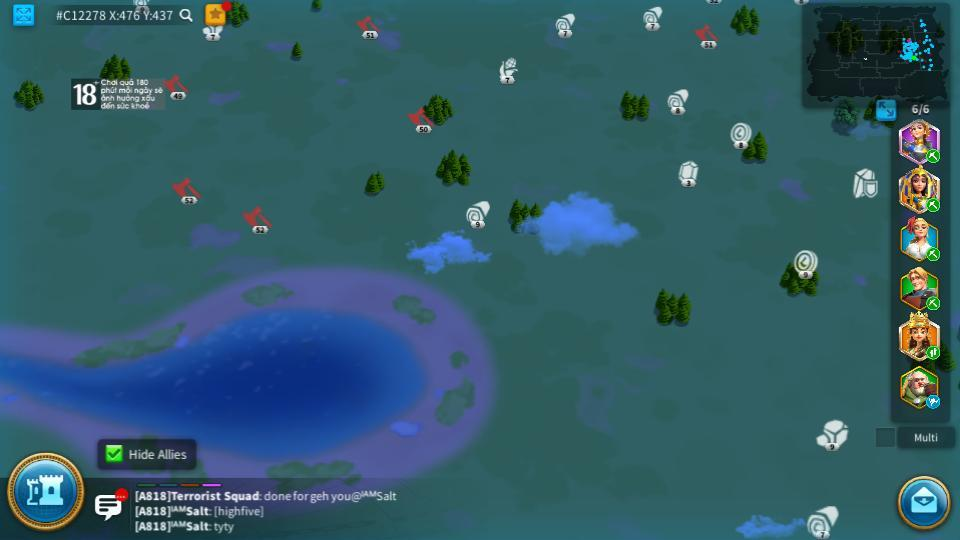gem-z-out: (677, 161, 699, 186)
march_farming: (925, 249, 941, 261)
march_idle: (925, 396, 942, 408)
march_marching: (925, 197, 941, 212), (925, 346, 942, 358), (925, 150, 942, 162), (925, 297, 942, 308)
